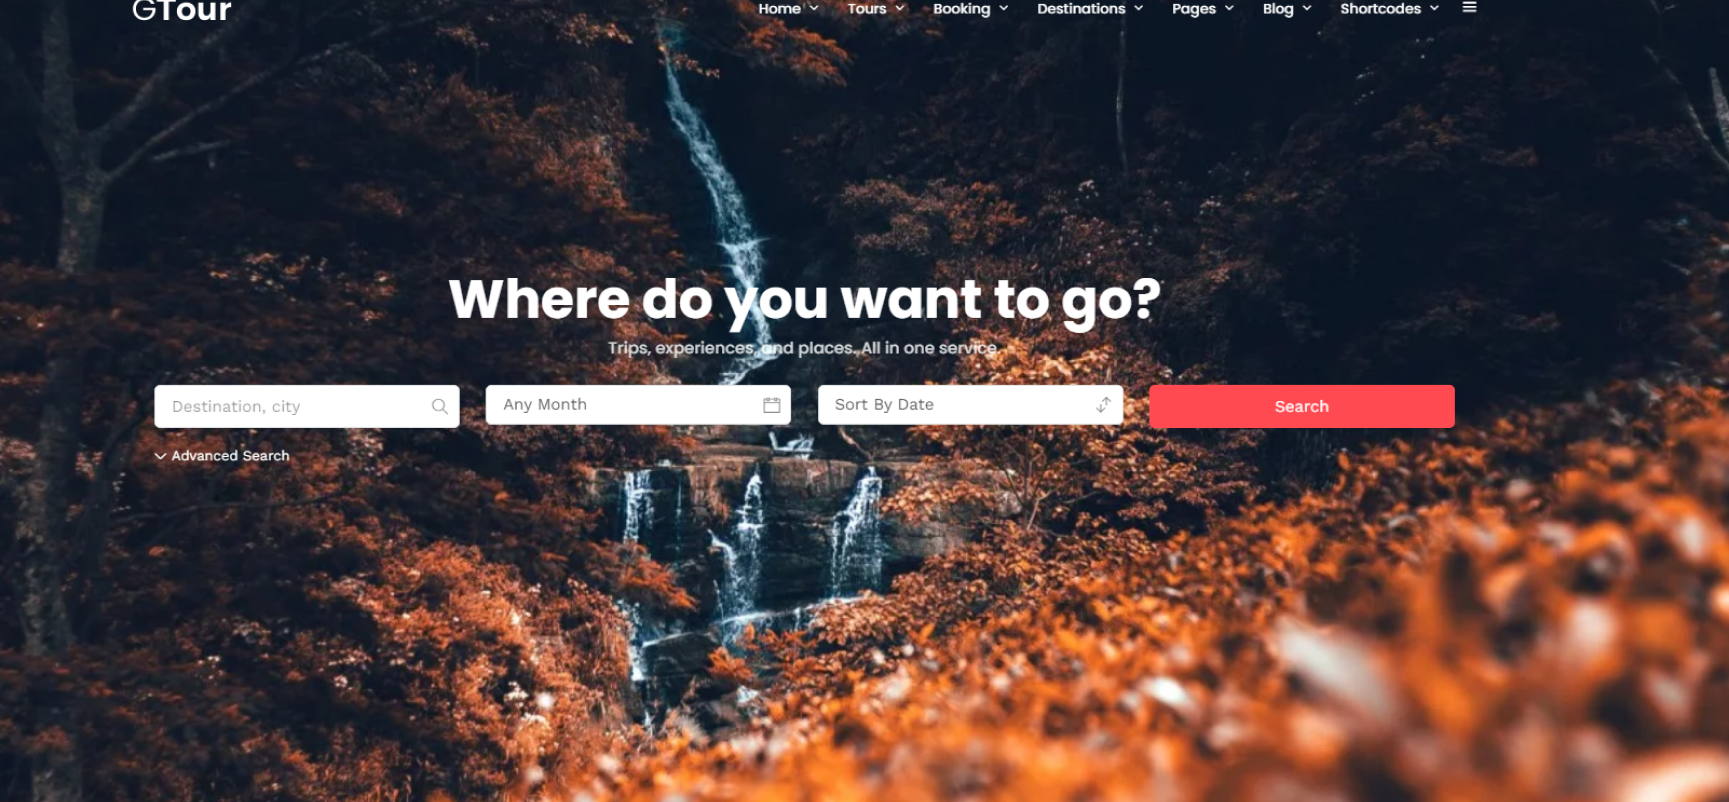menu: (23, 7, 1653, 113)
